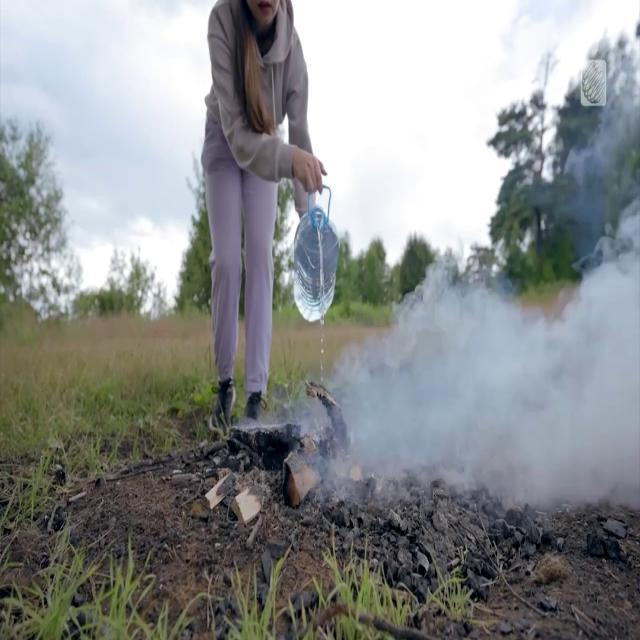Smoke: (320, 231, 640, 525)
